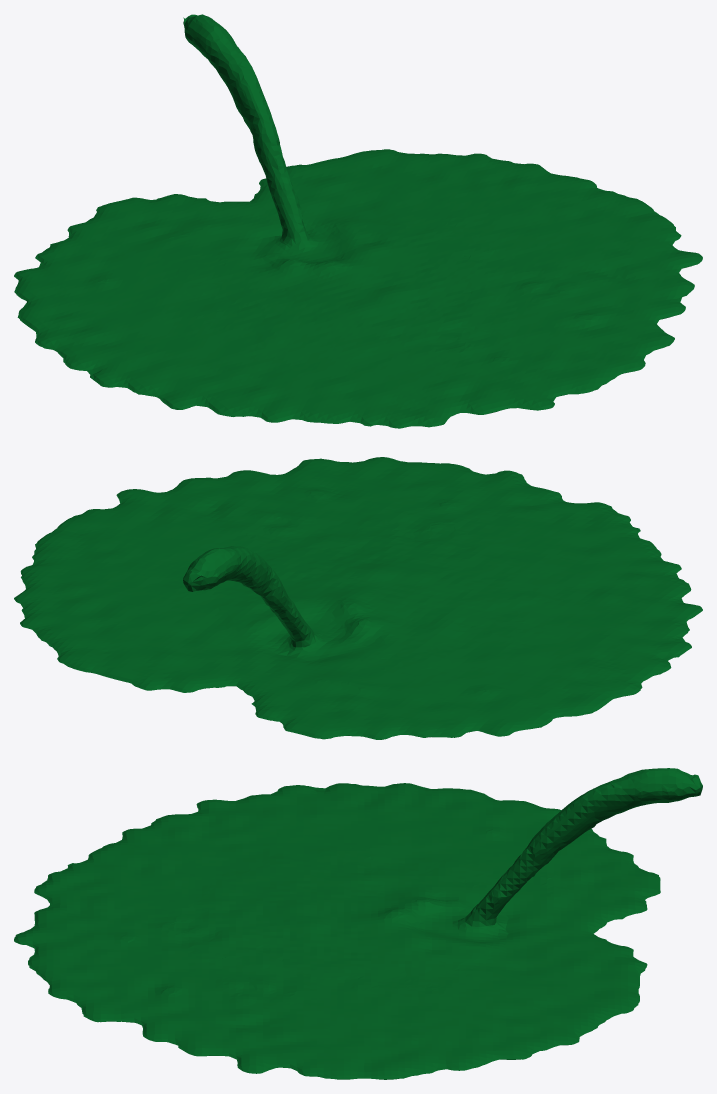
File: fluid_40.fbx
The picture shows the model from 3 angles, top to bottom: view 1: azimuth 30°, elevation 25°; view 2: azimuth 150°, elevation 25°; view 3: azimuth 270°, elevation 25°; orthographic projection.
Visible parts, largest first — view 1: Cube; view 2: Cube; view 3: Cube.
Boxes of the visible parts, x1,y1,x2,y2 form: Cube: (14, 14, 702, 428); Cube: (14, 457, 702, 739); Cube: (14, 768, 702, 1079).
Size of the model in its own units: 679 by 177 by 668.
